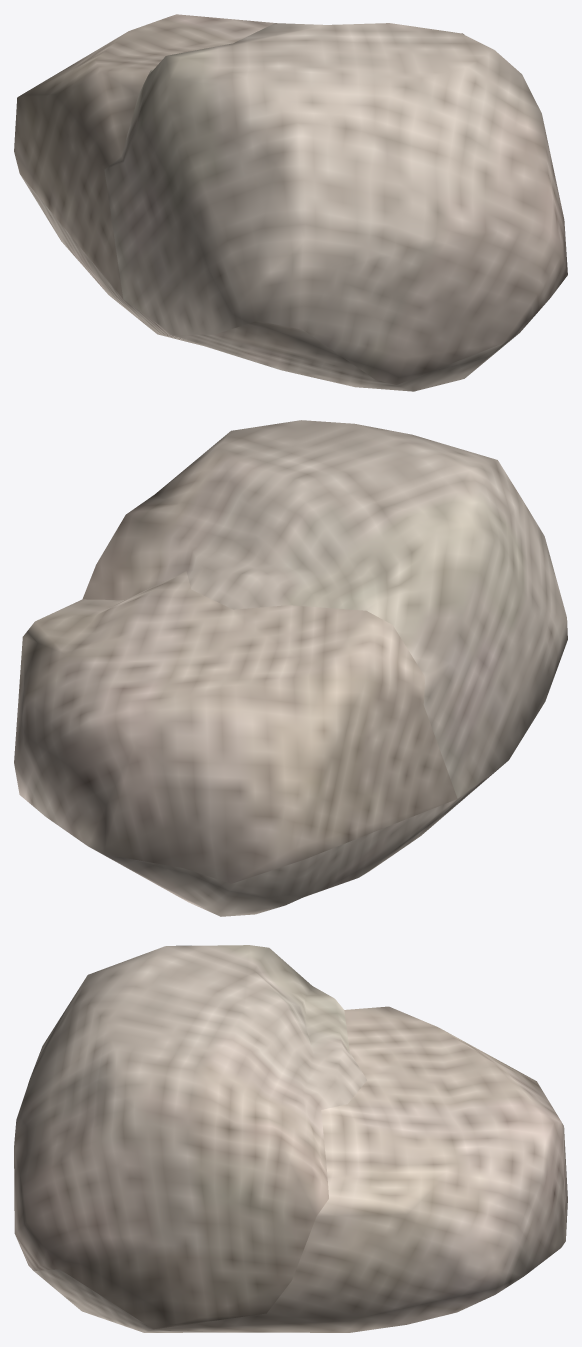
3 renders of one model, top to bottom at view 1: azimuth 30°, elevation 25°; view 2: azimuth 150°, elevation 25°; view 3: azimuth 270°, elevation 25°, orthographic. The views are drawn at different scales.
Parts seen in each view (by area): view 1: SM_Linen_Cloth_01_LOD0; view 2: SM_Linen_Cloth_01_LOD0; view 3: SM_Linen_Cloth_01_LOD0.
Boxes of the visible parts, box(x1,y1,x2,y2) form: SM_Linen_Cloth_01_LOD0: box(14, 14, 567, 391); SM_Linen_Cloth_01_LOD0: box(14, 420, 567, 916); SM_Linen_Cloth_01_LOD0: box(14, 945, 567, 1332).
Bounding box in the file's own units: 0.2432 × 0.204 × 0.3486.
